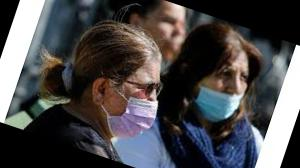mask_weared_incorrect: (200, 63, 257, 124)
with_mask: (111, 74, 175, 151)
without_mask: (145, 8, 194, 59)
